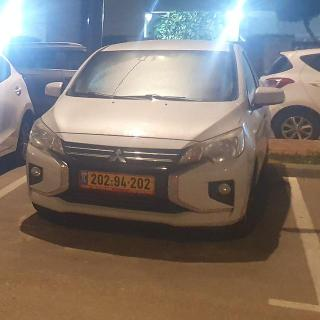LicensePlate: (86, 172, 155, 192)
